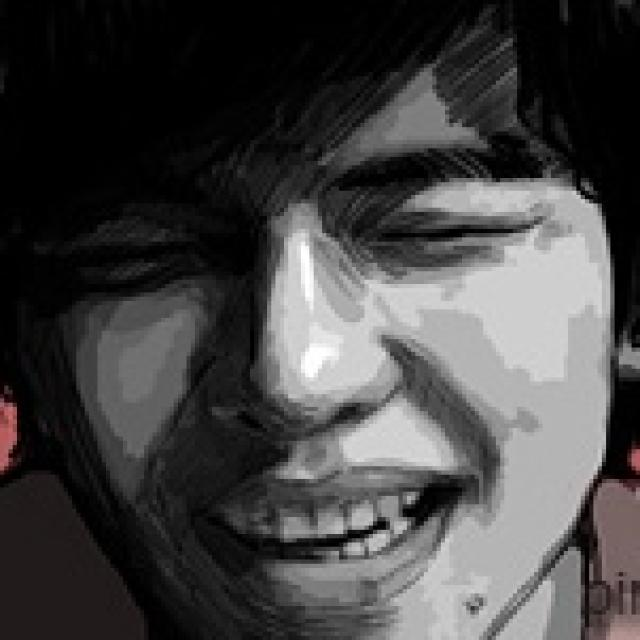Eyeclosed: (374, 214, 546, 268), (77, 254, 213, 302)
